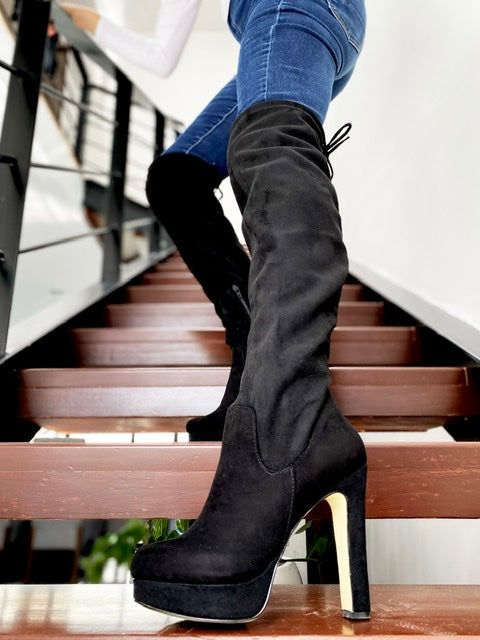gamuza: (130, 100, 366, 581)
